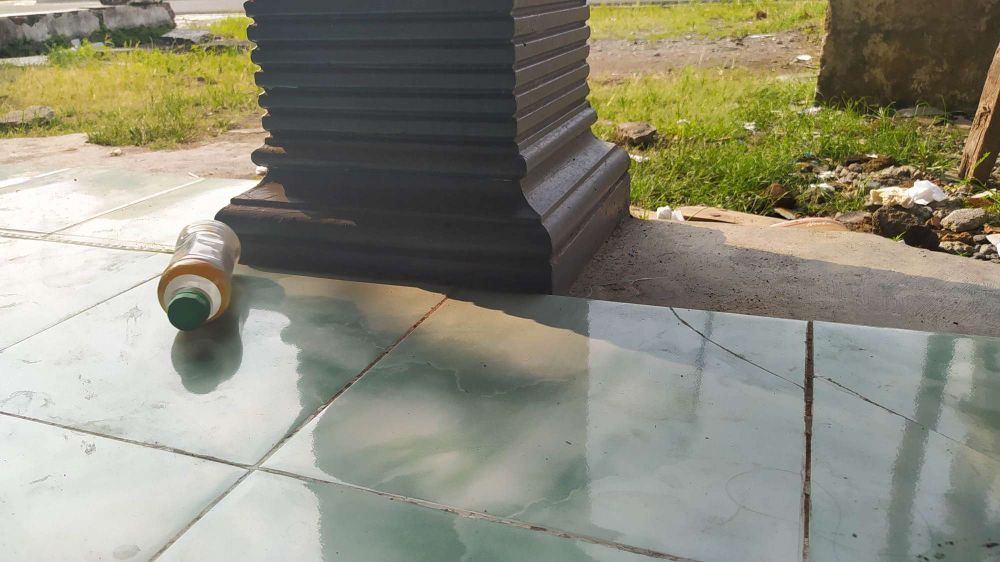botol: (139, 205, 254, 344)
